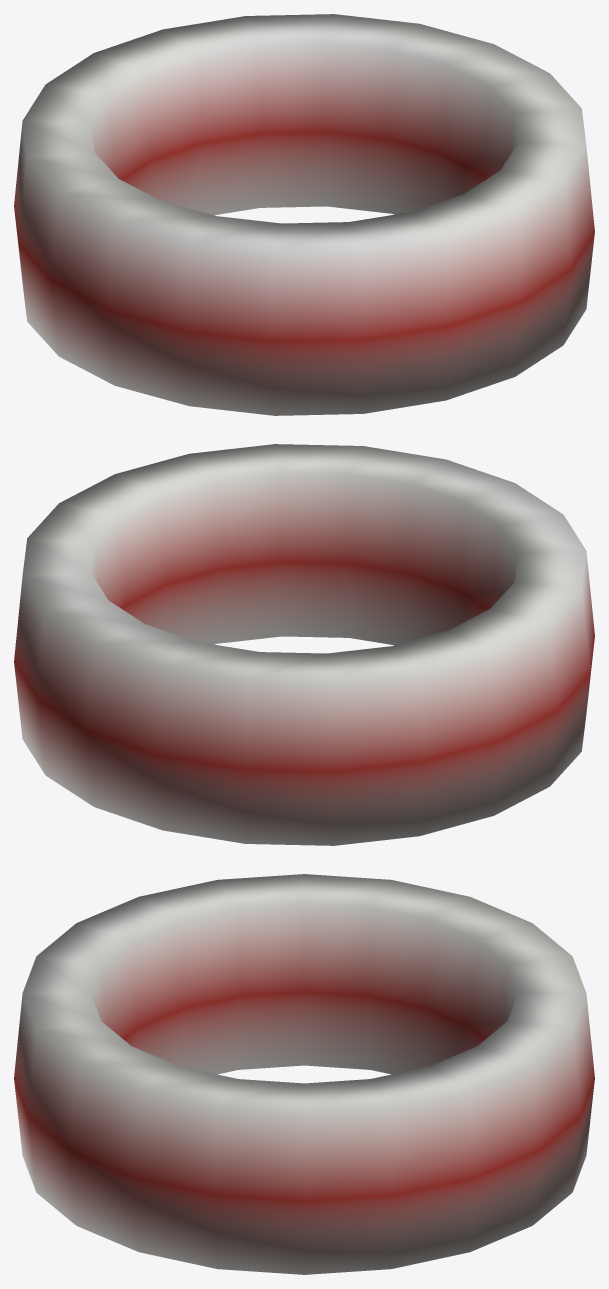
Rendered from item_ic_lost_sweatband.glb.
3 views of the same model, one above another, from view 1: azimuth 30°, elevation 25°; view 2: azimuth 150°, elevation 25°; view 3: azimuth 270°, elevation 25° (orthographic).
Parts seen in each view (by area): view 1: item_ic_lost_sweatband_main; view 2: item_ic_lost_sweatband_main; view 3: item_ic_lost_sweatband_main.
Part boxes in pixels (x1=…): item_ic_lost_sweatband_main: x1=14, y1=14, x2=594, y2=415; item_ic_lost_sweatband_main: x1=14, y1=444, x2=594, y2=845; item_ic_lost_sweatband_main: x1=14, y1=874, x2=594, y2=1274.
Bounding box in the file's own units: 0.136 × 0.042 × 0.136.
